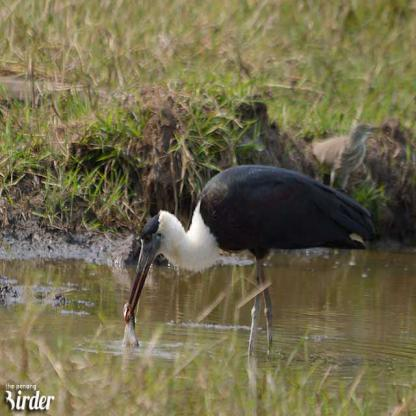Burung: (109, 164, 380, 357)
